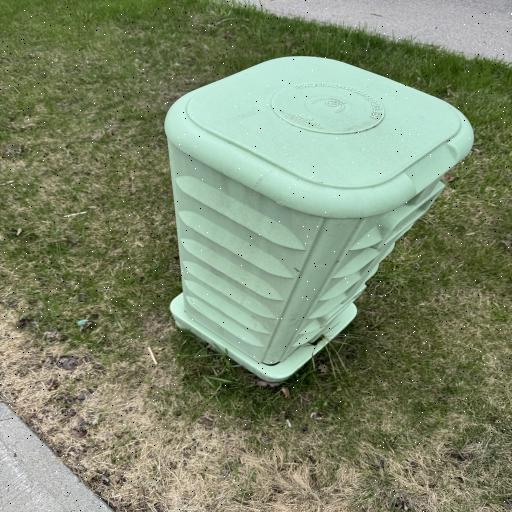Electrical Box: (163, 56, 474, 382)
